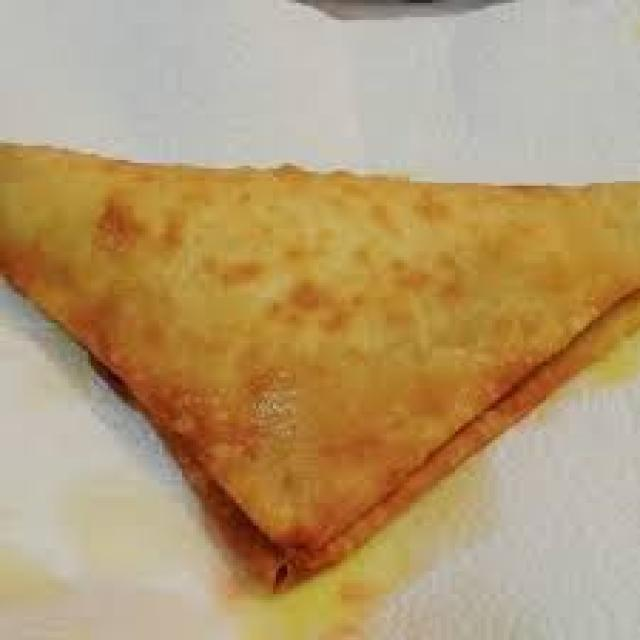brik: (0, 166, 640, 535)
